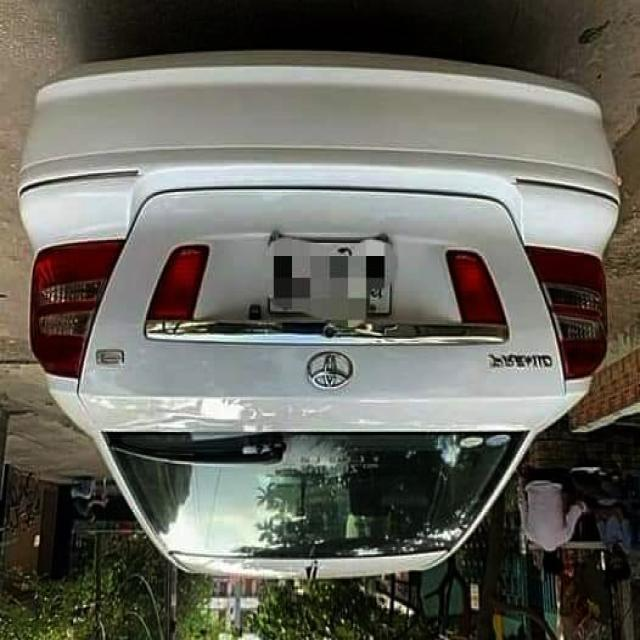white: (20, 65, 640, 578)
